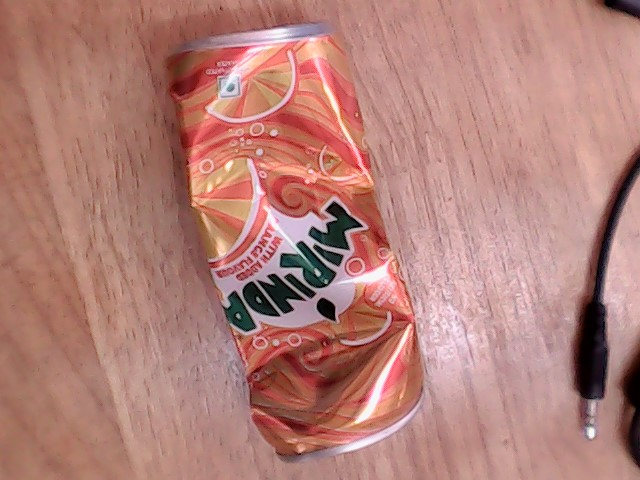Metal: (156, 22, 527, 480)
